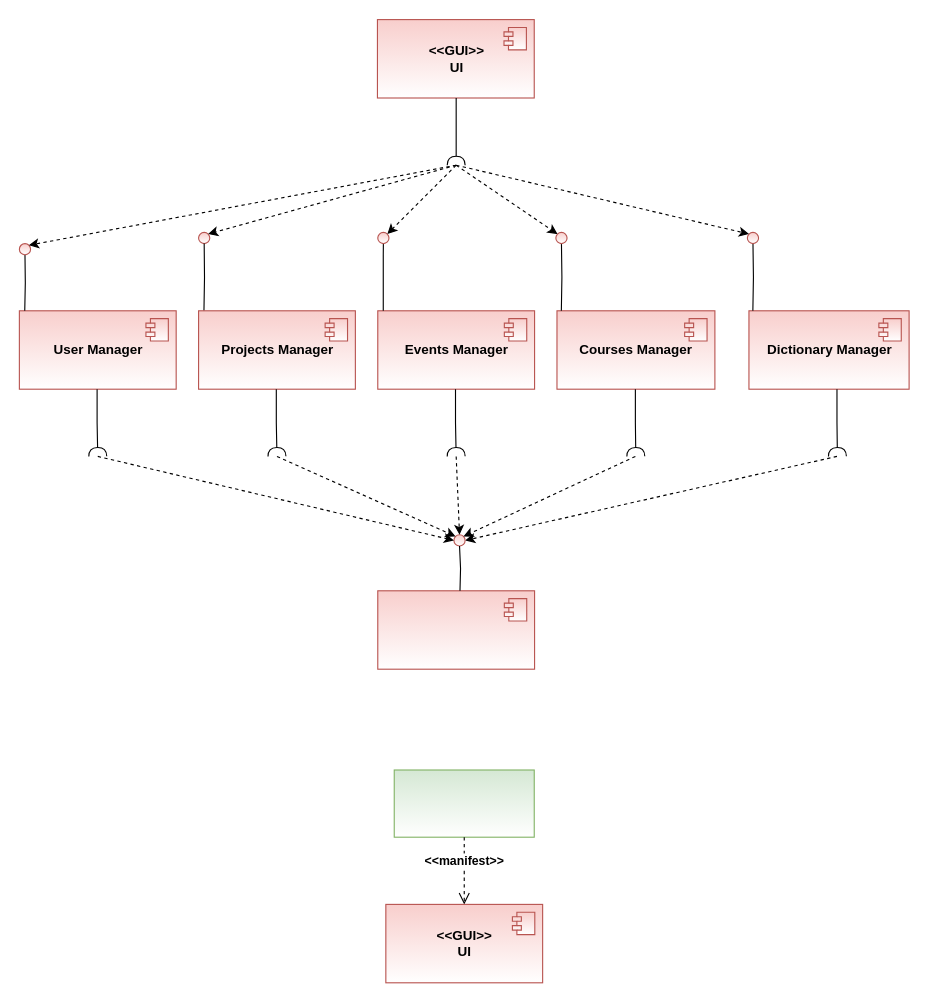
Image size: 930x1002. Some labels were removed from this diagram. Here are the shapes that lost their labels. From the top down, the centre of each, then its label:
At (456,629): "Storage Manager".
At (463,803): "<<website>> AzDeveloper.java".
